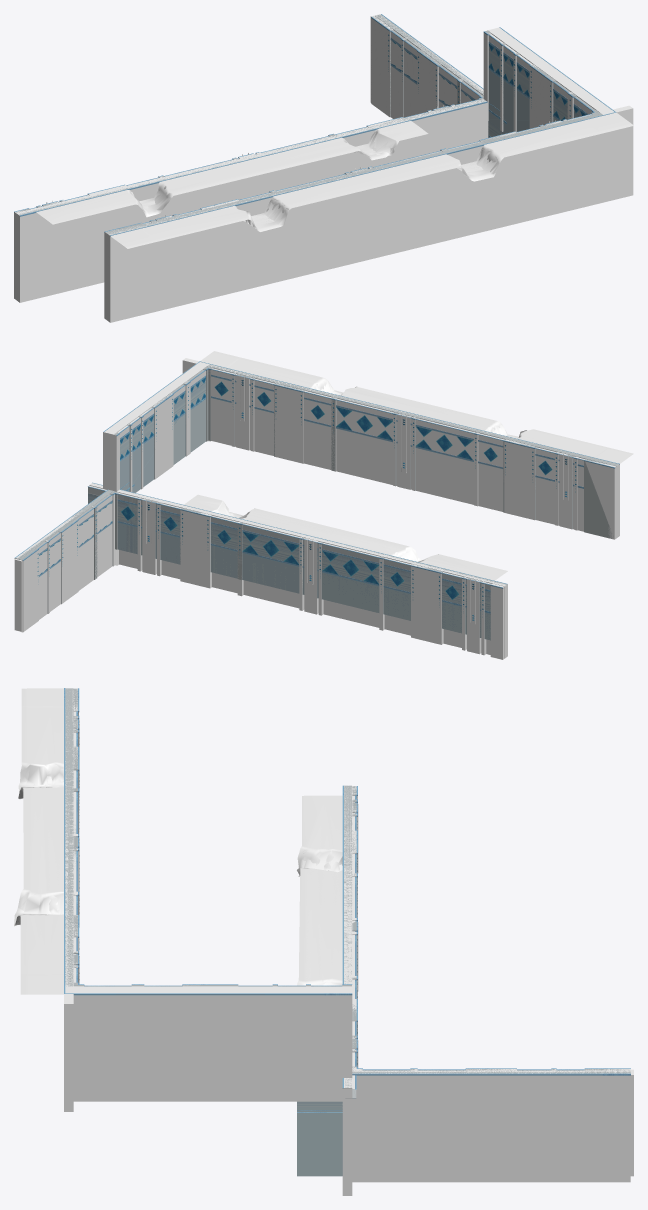
The model's file is objects_un_c02wall01.gltf.
3 views of the same model, one above another, from view 1: azimuth 30°, elevation 25°; view 2: azimuth 150°, elevation 25°; view 3: azimuth 270°, elevation 25° (orthographic). The views are drawn at different scales.
Parts seen in each view (by area): view 1: um_objects_un_c02wall01_wall01_model_lod0Shape:objects_un_c0 (×5), um_objects_un_c02wall01_wall01_model_lod2Shape:objects_un_c0, um_objects_un_c02wall01_wall01_model_lod1Shape:objects_un_c0 (×2); view 2: um_objects_un_c02wall01_wall01_model_lod0Shape:objects_un_c0 (×5), um_objects_un_c02wall01_wall01_model_lod1Shape:objects_un_c0 (×3), um_objects_un_c02wall01_wall01_model_lod2Shape:objects_un_c0 (×2); view 3: um_objects_un_c02wall01_wall01_model_lod0Shape:objects_un_c0 (×5), um_objects_un_c02wall01_wall01_model_lod2Shape:objects_un_c0, um_objects_un_c02wall01_wall01_model_lod1Shape:objects_un_c0.
Part boxes in pixels (bbox=[...]): um_objects_un_c02wall01_wall01_model_lod0Shape:objects_un_c0 (×5): bbox=[14, 14, 633, 322]; um_objects_un_c02wall01_wall01_model_lod2Shape:objects_un_c0: bbox=[38, 127, 587, 231]; um_objects_un_c02wall01_wall01_model_lod1Shape:objects_un_c0 (×2): bbox=[19, 39, 602, 231]; um_objects_un_c02wall01_wall01_model_lod0Shape:objects_un_c0 (×5): bbox=[14, 351, 633, 659]; um_objects_un_c02wall01_wall01_model_lod1Shape:objects_un_c0 (×3): bbox=[37, 365, 616, 640]; um_objects_un_c02wall01_wall01_model_lod2Shape:objects_un_c0 (×2): bbox=[88, 364, 597, 590]; um_objects_un_c02wall01_wall01_model_lod0Shape:objects_un_c0 (×5): bbox=[14, 688, 633, 1195]; um_objects_un_c02wall01_wall01_model_lod2Shape:objects_un_c0: bbox=[20, 707, 342, 985]; um_objects_un_c02wall01_wall01_model_lod1Shape:objects_un_c0: bbox=[65, 688, 628, 1088].
Bounding box in the file's own units: 210 × 59.86 × 174.
Materials: 8 (5 with a texture image).
